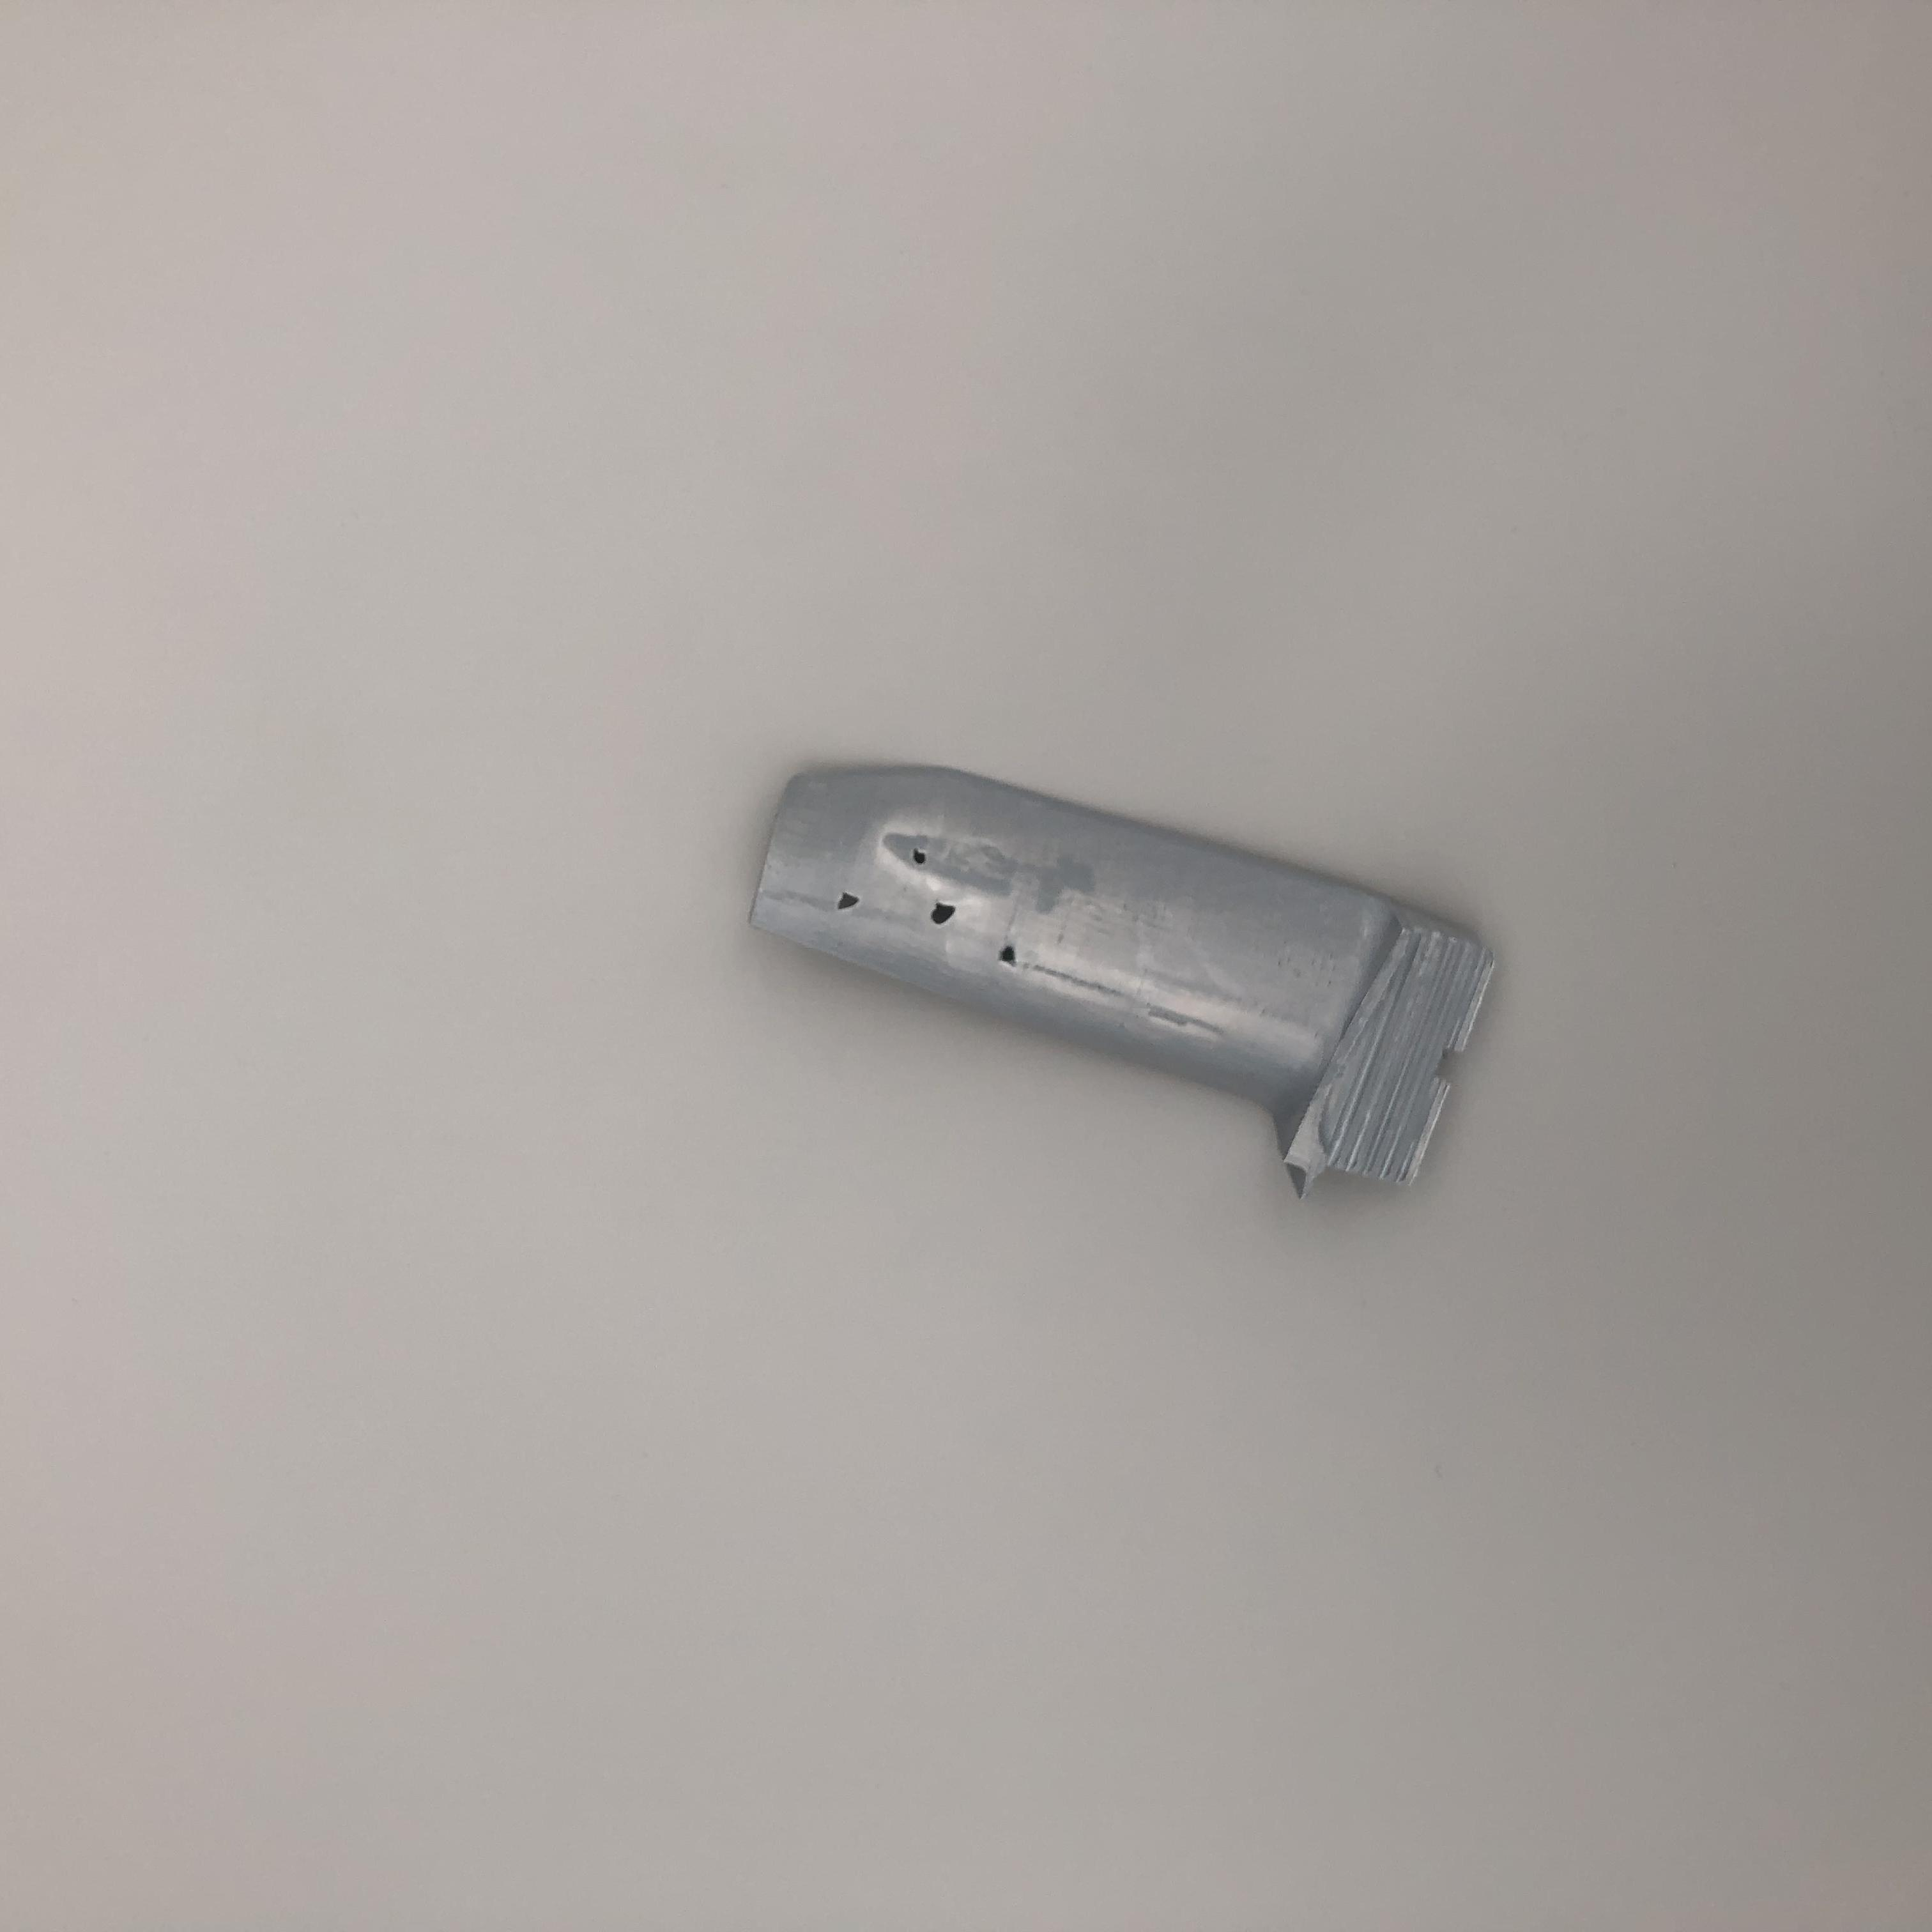breakdown: (837, 837, 1028, 994)
